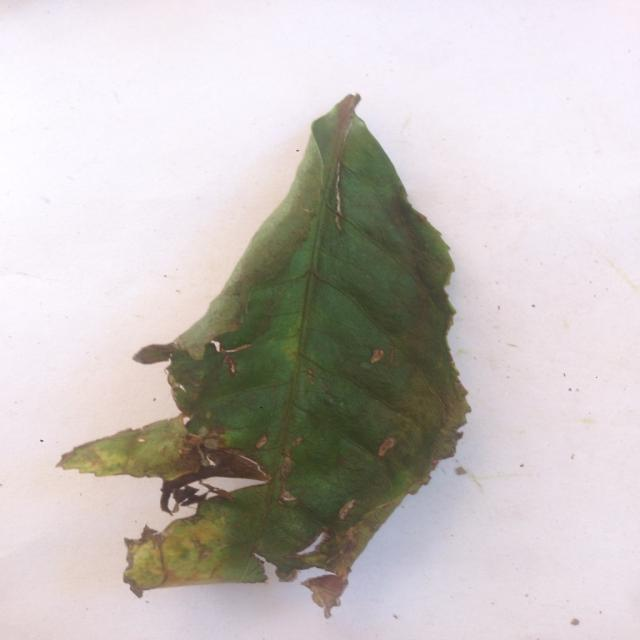Brown Blight: (44, 92, 486, 630)
